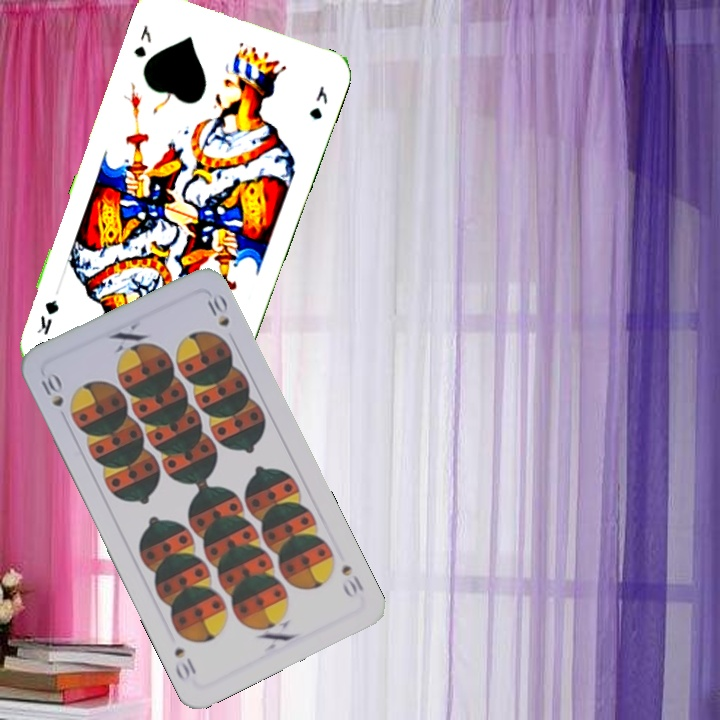GK: (129, 20, 154, 60)
S10: (337, 560, 367, 601), (37, 369, 66, 410)
